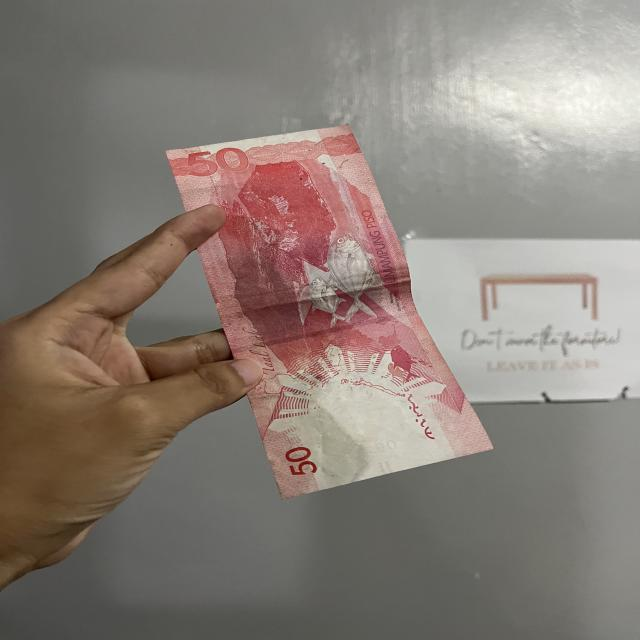see_through_mark: (389, 382, 446, 449)
value: (188, 142, 248, 183)
value_watermark: (376, 438, 396, 454)
